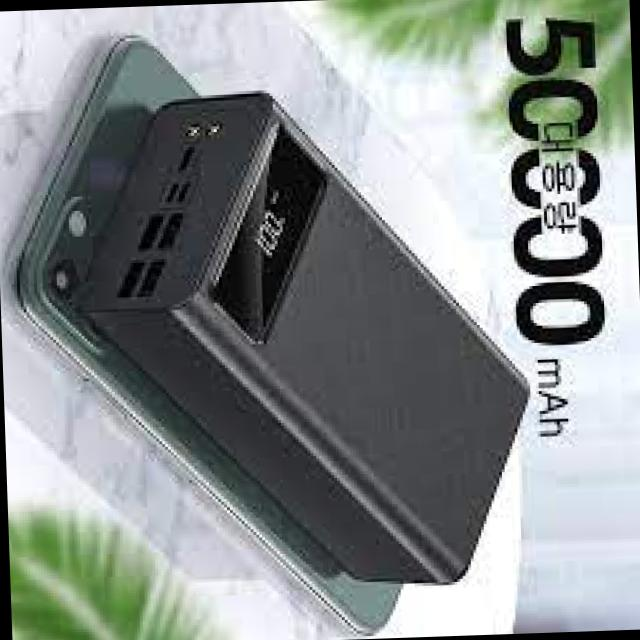power_bank: (80, 82, 538, 600)
